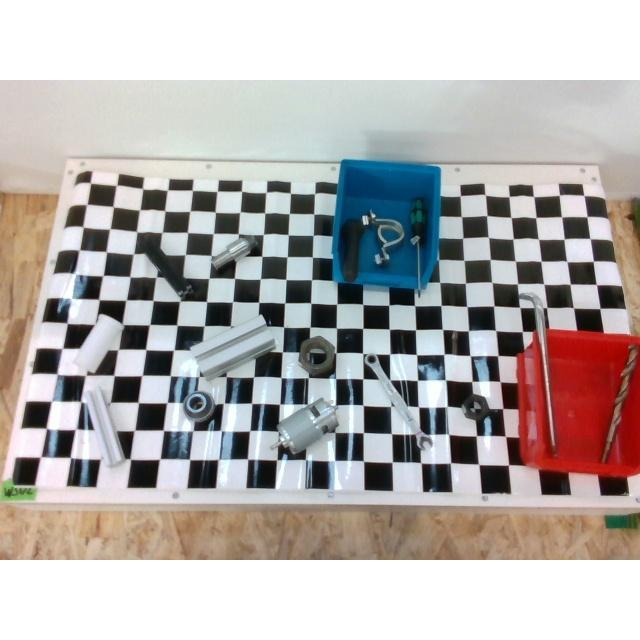AllenKey: (518, 292, 558, 456)
Axis2: (210, 235, 258, 272)
Bearing2: (183, 391, 215, 422)
Drill: (602, 344, 638, 462)
F20_20_B: (139, 240, 193, 300)
F20_20_G: (83, 384, 125, 466)
Housing: (361, 211, 404, 265)
M20: (461, 394, 491, 422)
M20_100: (341, 219, 364, 281)
M30: (298, 336, 334, 376)
Motor2: (278, 397, 338, 453)
S40_40_G: (190, 315, 274, 379)
Screwdriver: (410, 198, 426, 290)
Spacer: (72, 314, 122, 374)
Wrench: (364, 354, 432, 451)
container_box_blue: (332, 160, 440, 288)
container_box_red: (517, 328, 639, 476)
